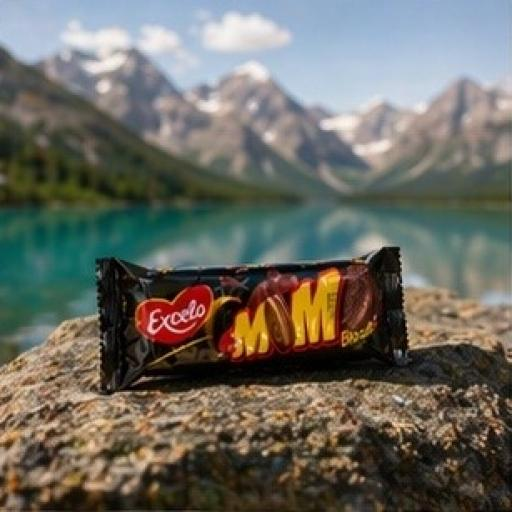MOMO: (54, 225, 451, 427)
